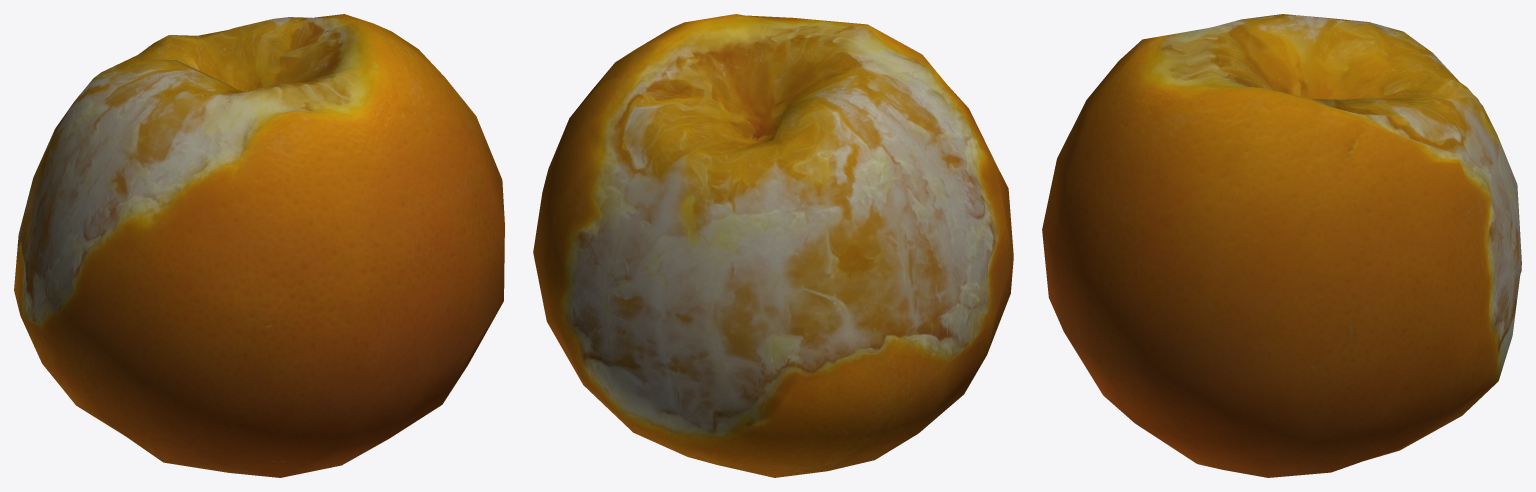
File: A63_Orange_Peeled_low.fbx
The picture shows the model from 3 angles, left to right: view 1: azimuth 30°, elevation 25°; view 2: azimuth 150°, elevation 25°; view 3: azimuth 270°, elevation 25°; orthographic projection. The views are drawn at different scales.
Parts seen in each view (by area): view 1: A63_Orange_Peeled_low; view 2: A63_Orange_Peeled_low; view 3: A63_Orange_Peeled_low.
Part boxes in pixels (bbox=[...]): A63_Orange_Peeled_low: bbox=[14, 14, 504, 477]; A63_Orange_Peeled_low: bbox=[533, 14, 1013, 477]; A63_Orange_Peeled_low: bbox=[1042, 14, 1521, 477].
Size of the model in its own units: 7.14 by 6.77 by 6.31.
Materials: 1 (1 with a texture image).
